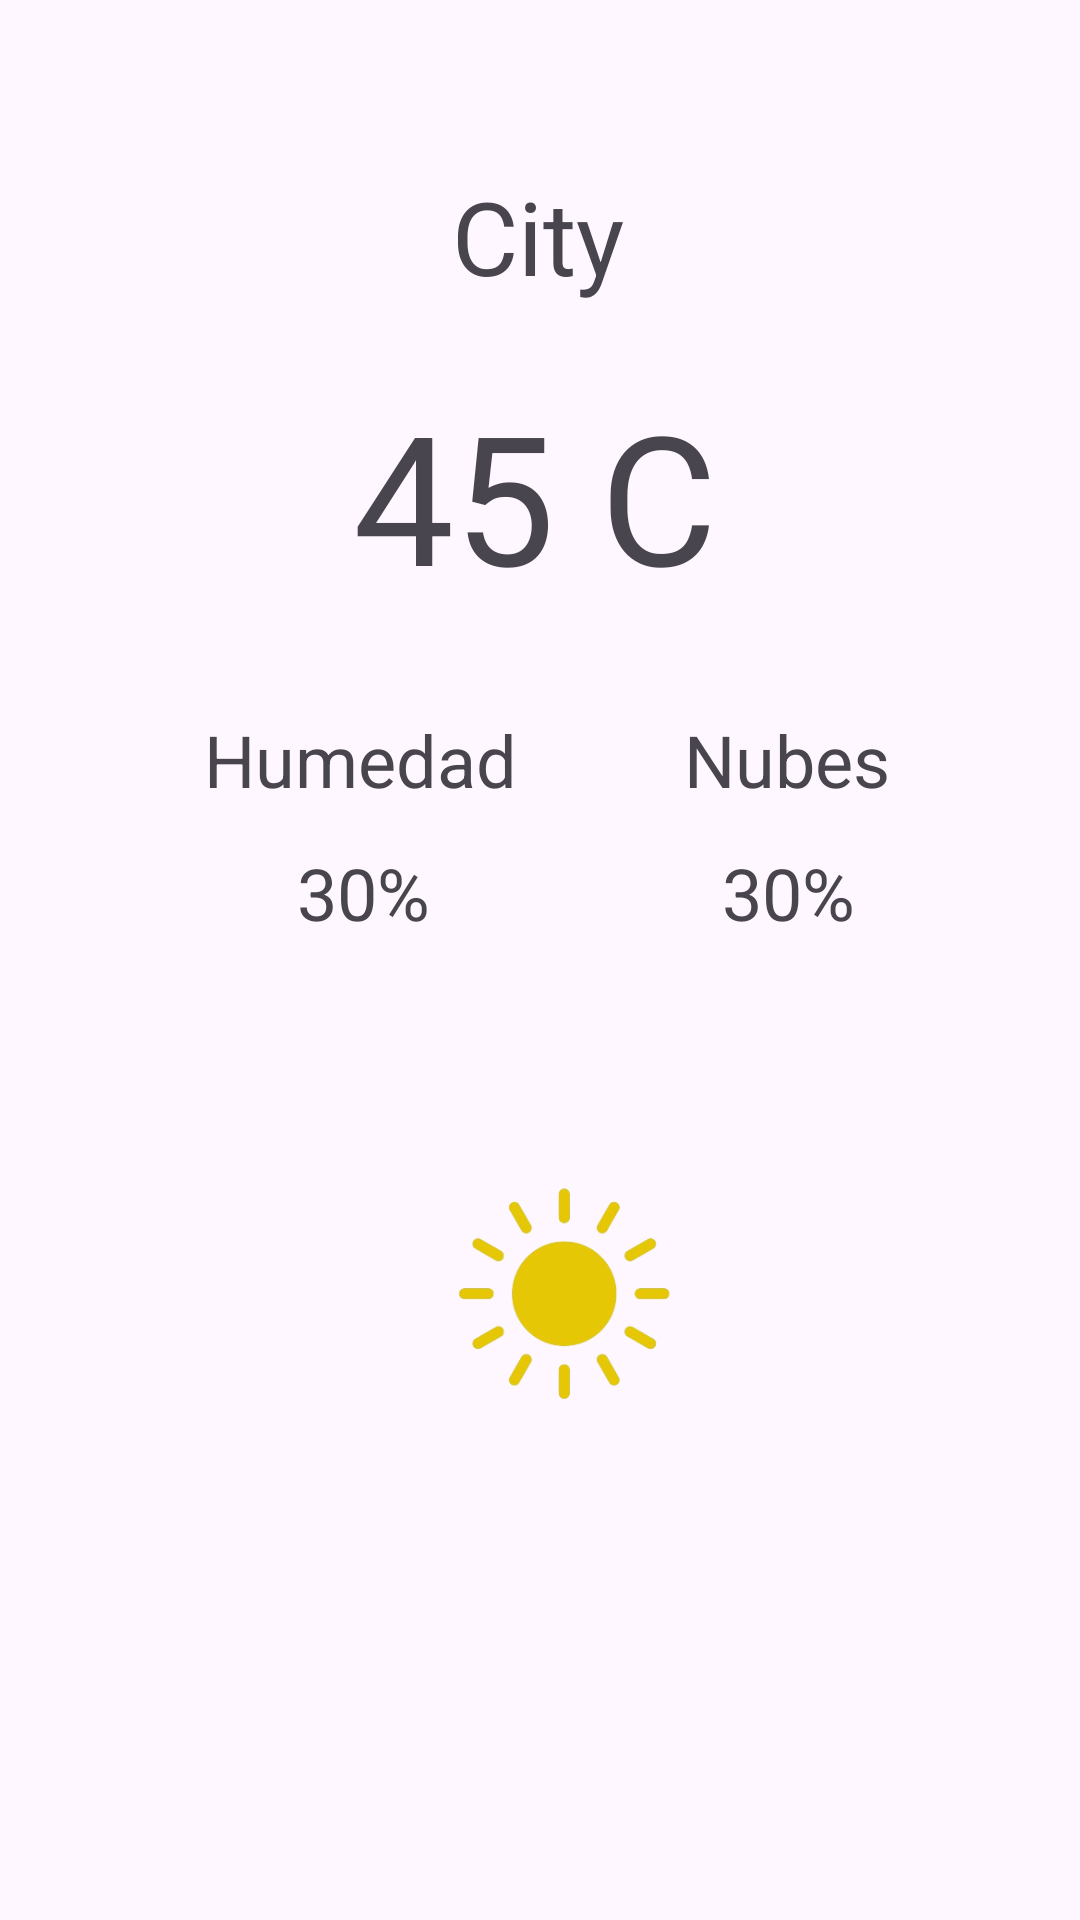

Icons on this 1080 × 1920 Android screen, each with its box as [x1,y1,x2,y2]:
sun: [459,1188,670,1399]
